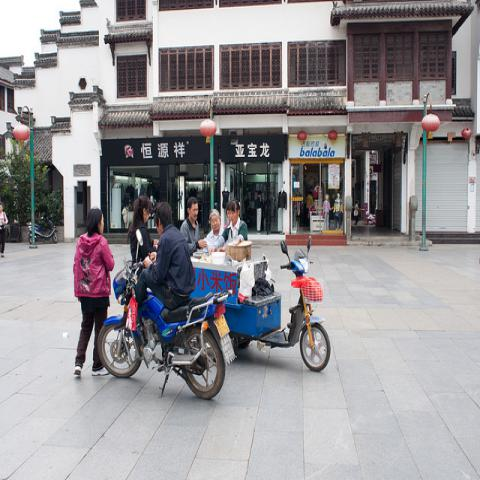motorcycle: (98, 230, 235, 402), (220, 236, 334, 373), (26, 217, 57, 244)
